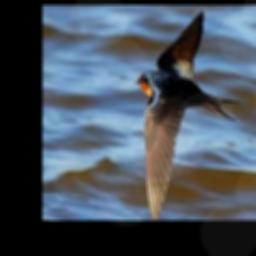Swallow: (135, 11, 240, 220)
